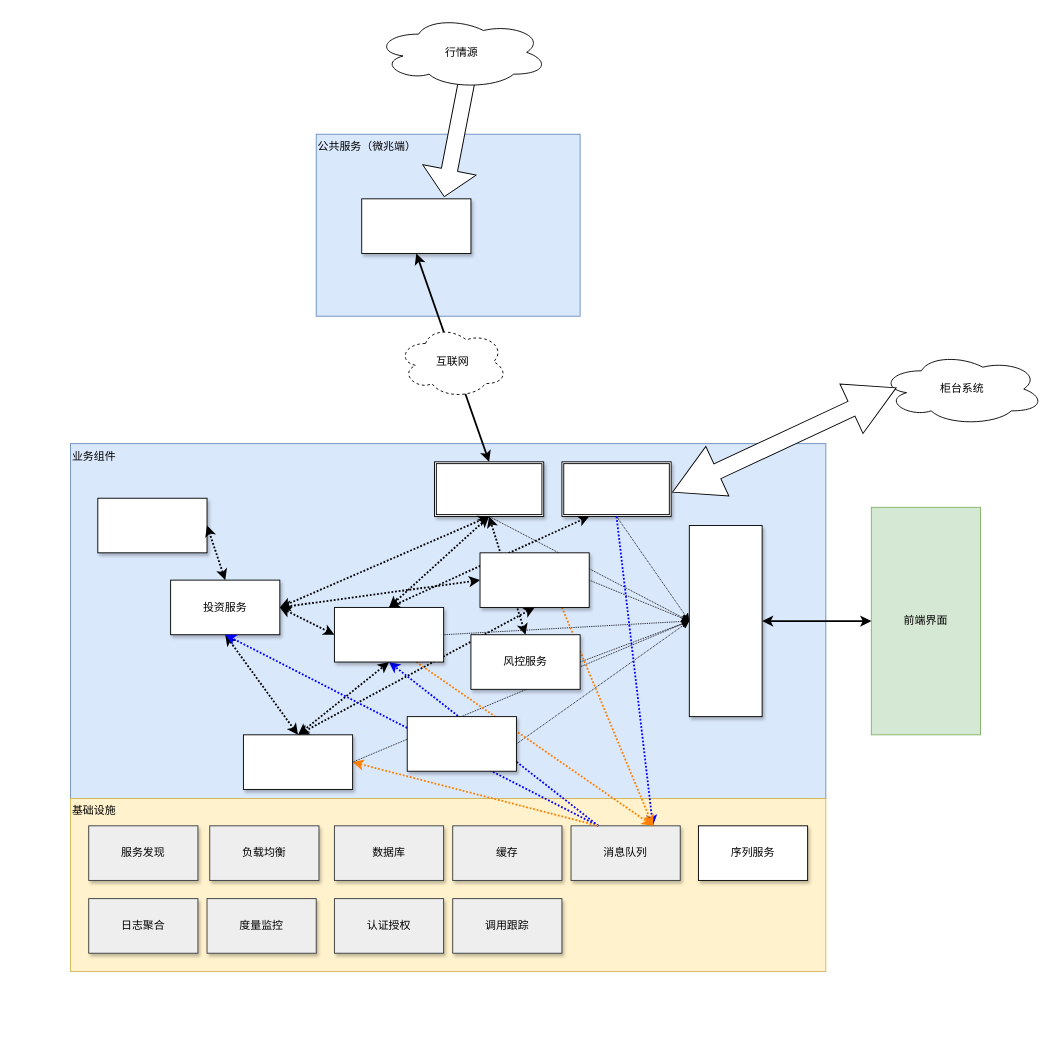
The diagram is 1060 pixels wide and 1051 high, and some of its shapes have lost their labels. The centre of each missing label's shape, as x and y in pixels:
"API网关" goes at (726,622).
"事务服务" goes at (535,581).
"交易服务" goes at (389,635).
"产品管理服务" goes at (152,526).
"公共行情服务" goes at (416,227).
"报盘服务" goes at (617,490).
"数据分析服务" goes at (462,745).
"行情服务" goes at (489,490).
"资金持仓服务" goes at (298,763).
